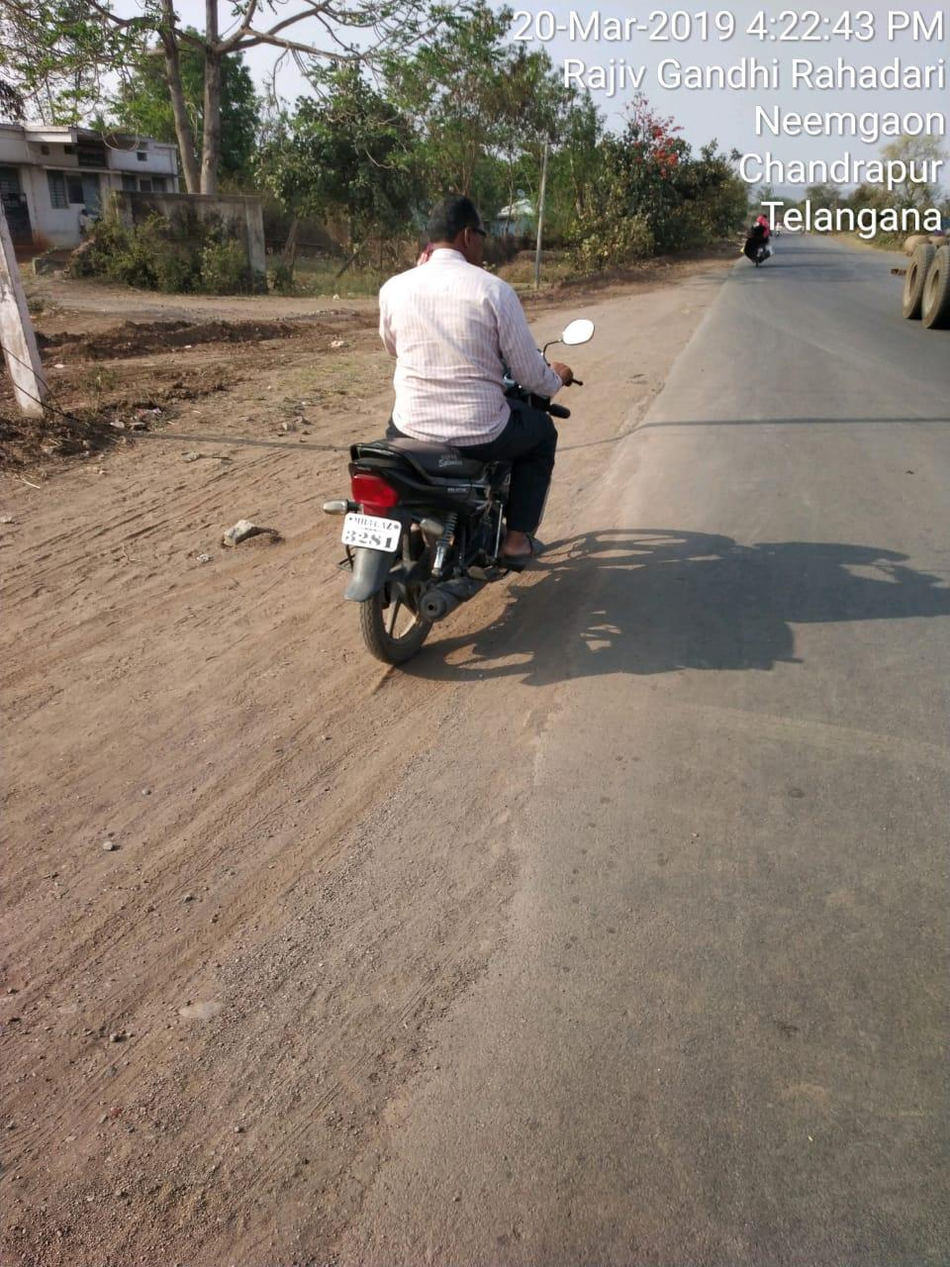plate: (331, 508, 409, 561)
